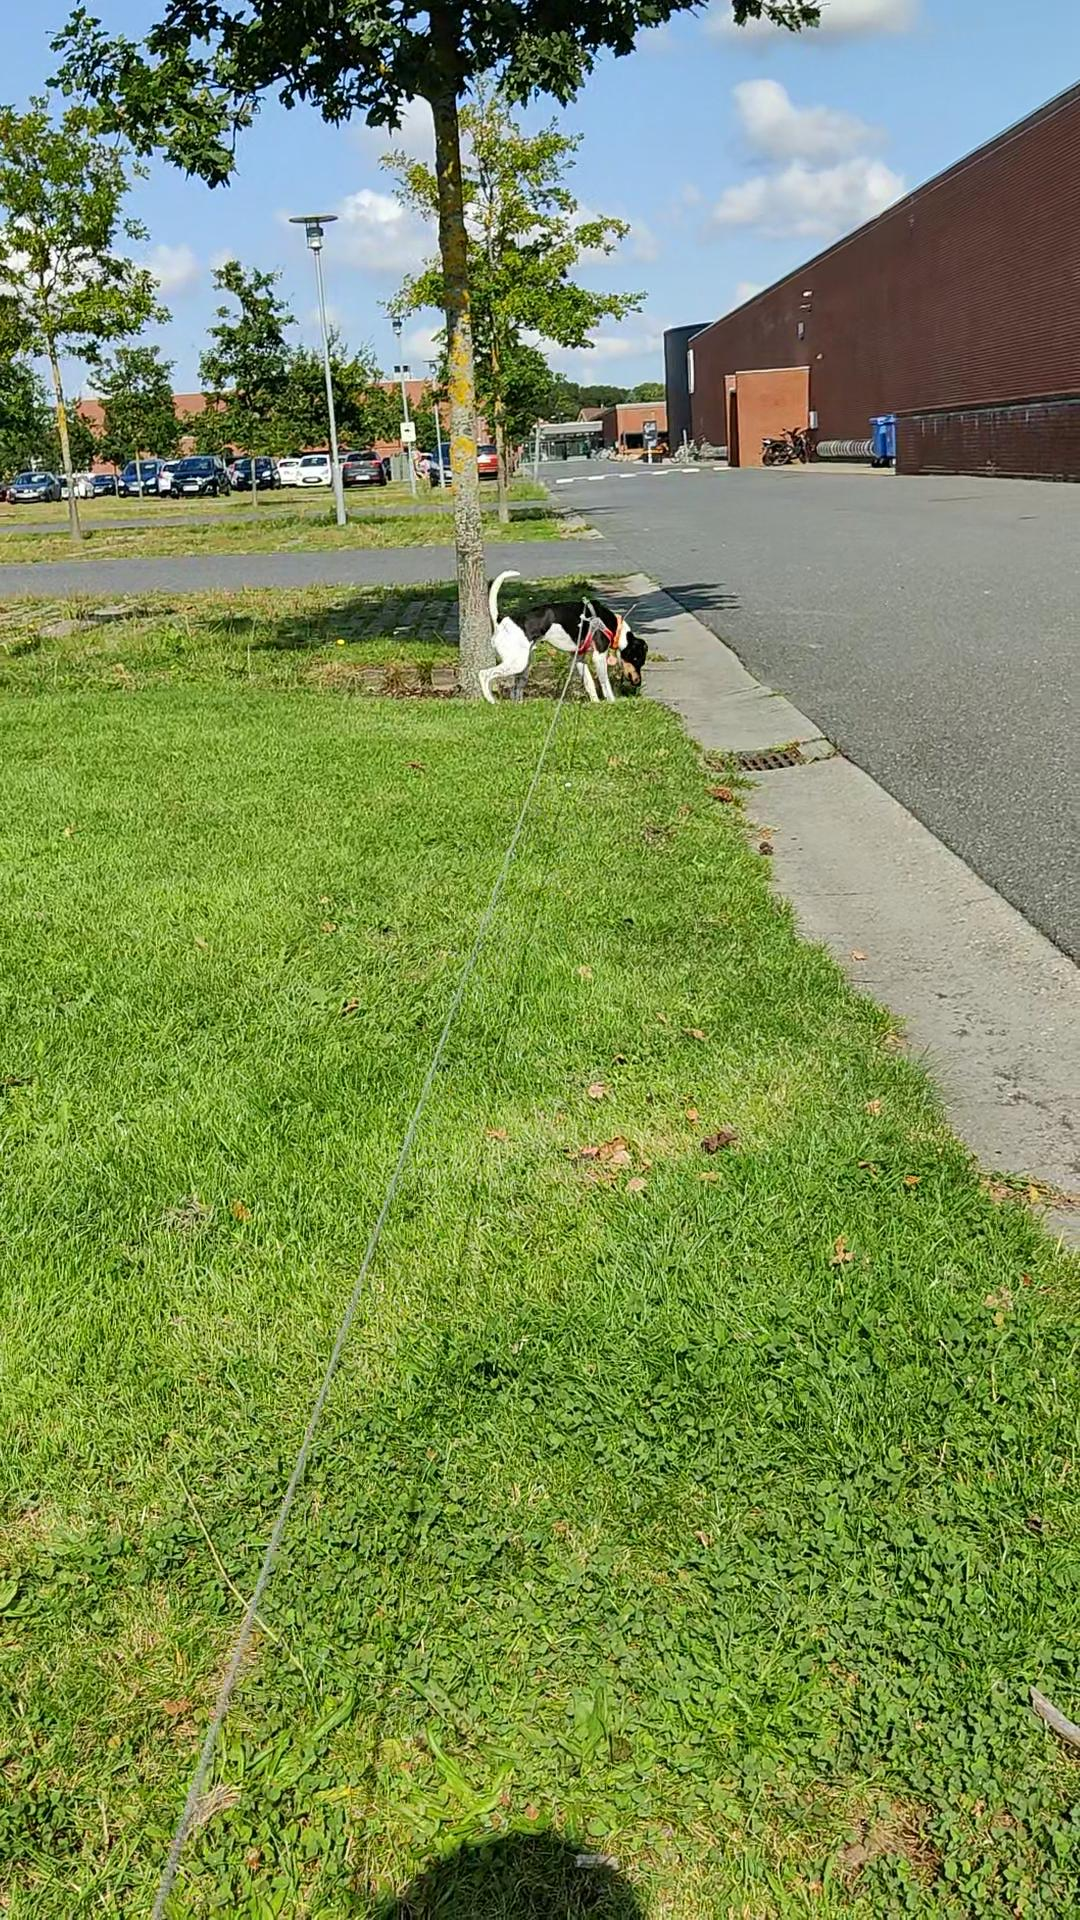Dog: (475, 568, 647, 703)
